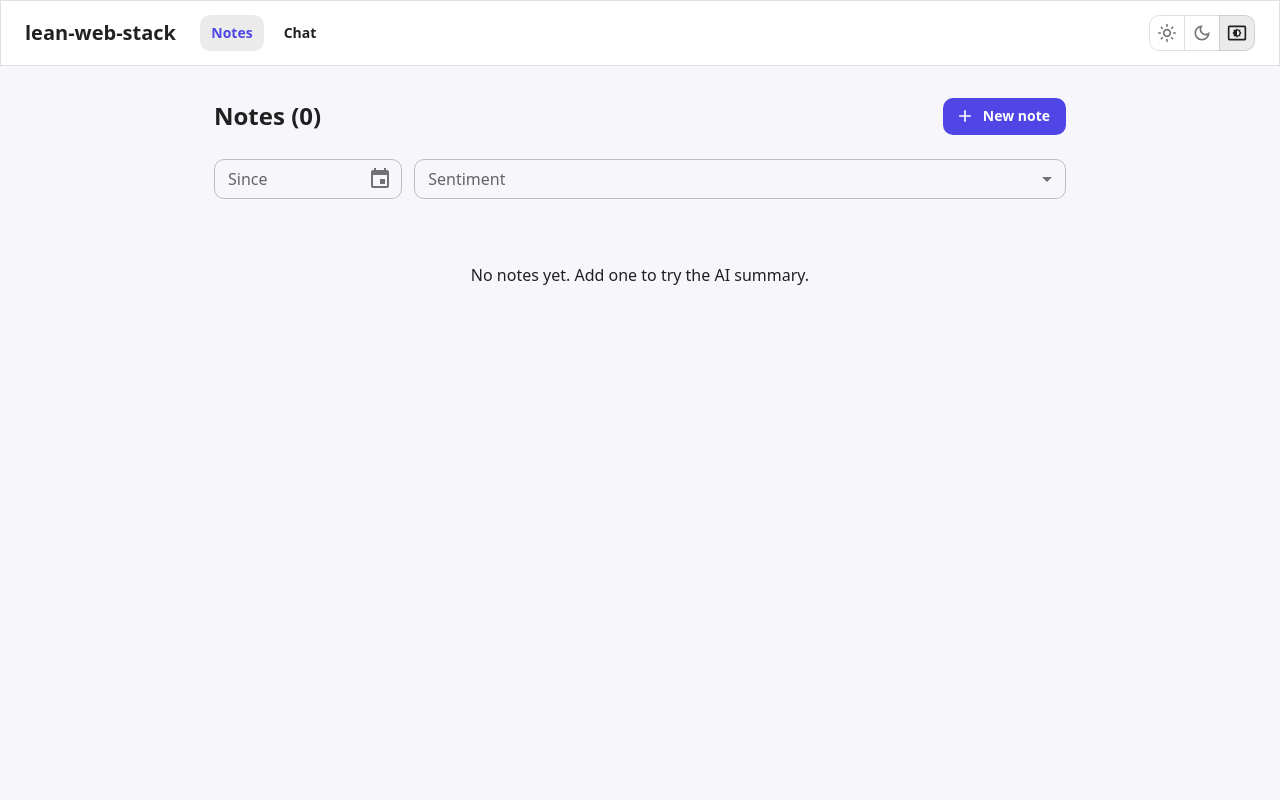
creating a note posts, toasts, closes the dialog and refetches the list
The width and height of the screenshot is (1280, 800).
Click the button "New note" at (1004, 116), box [943,98,1066,134]
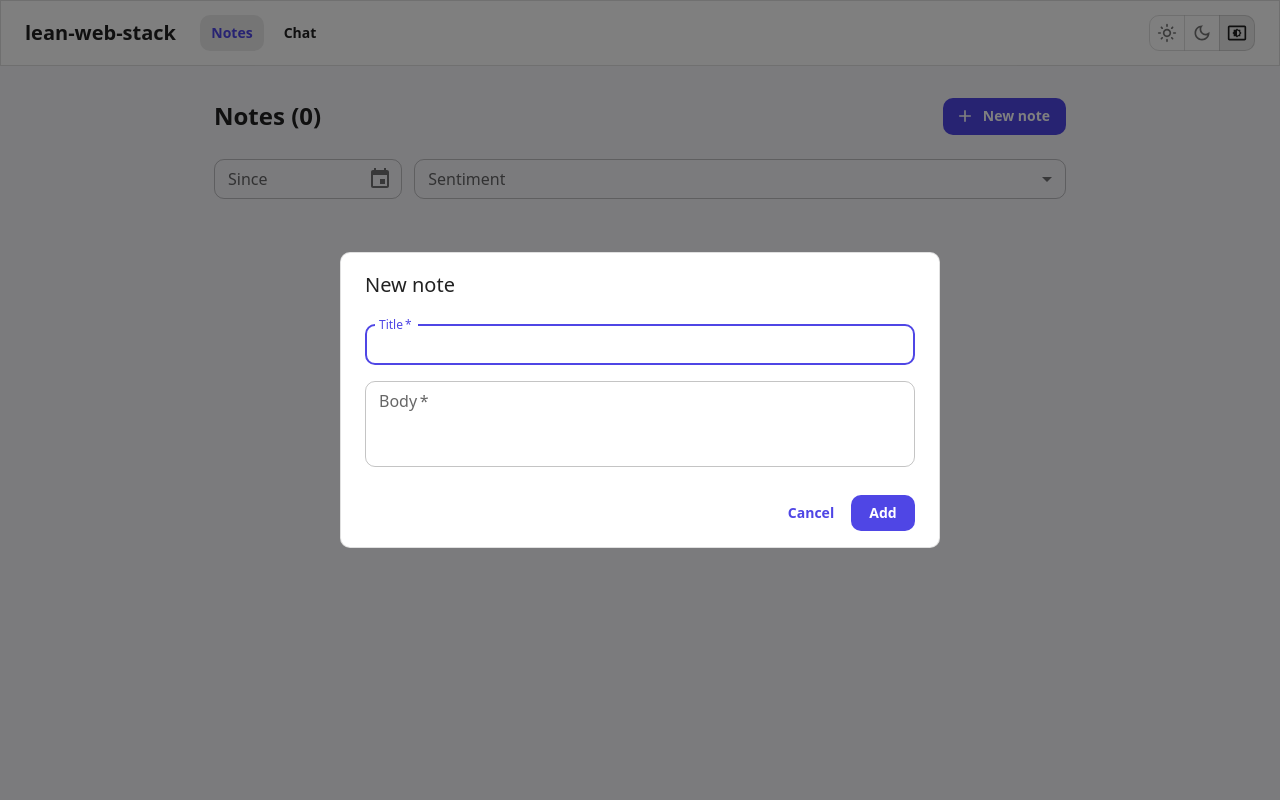
Type "Sprint" into the field labelled "Title *" at (640, 345), box [365,325,915,365]
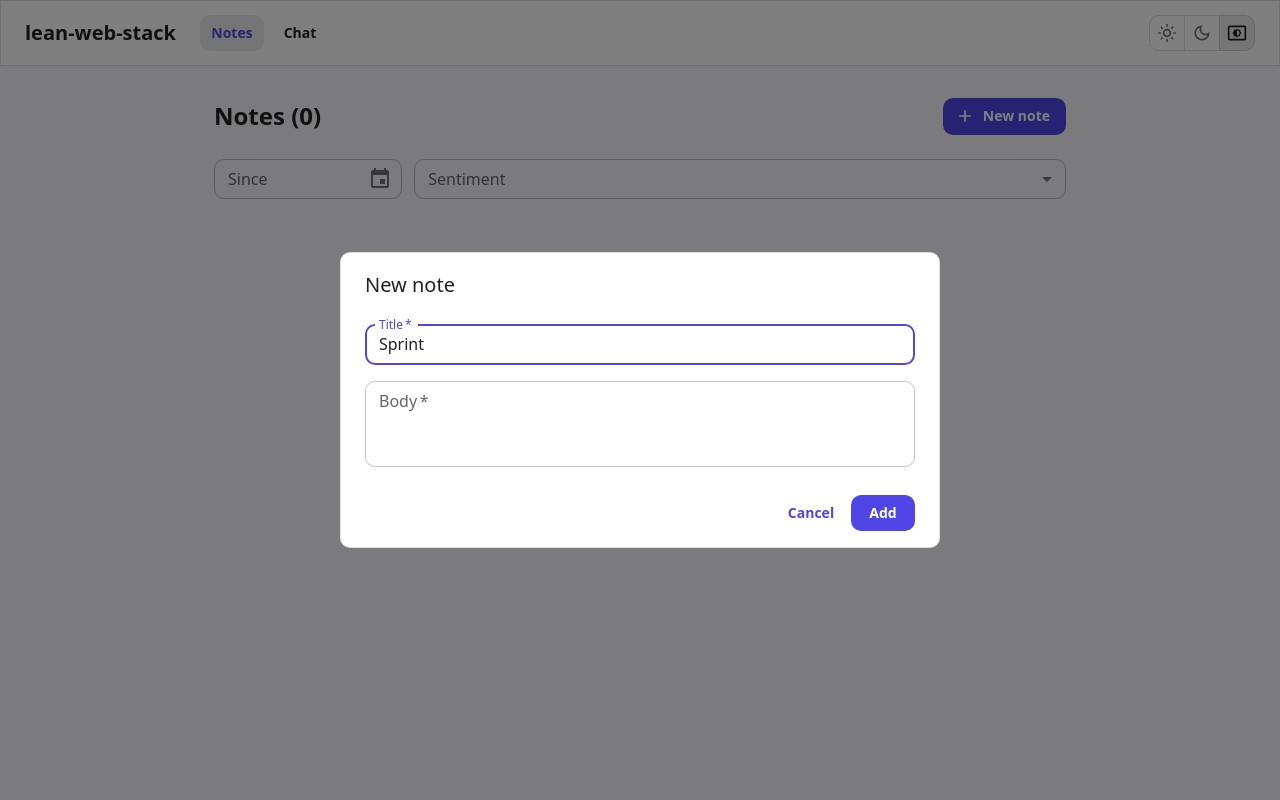
Type "Great review." into the text box labelled "Body *" at (640, 424), box [379,389,901,458]
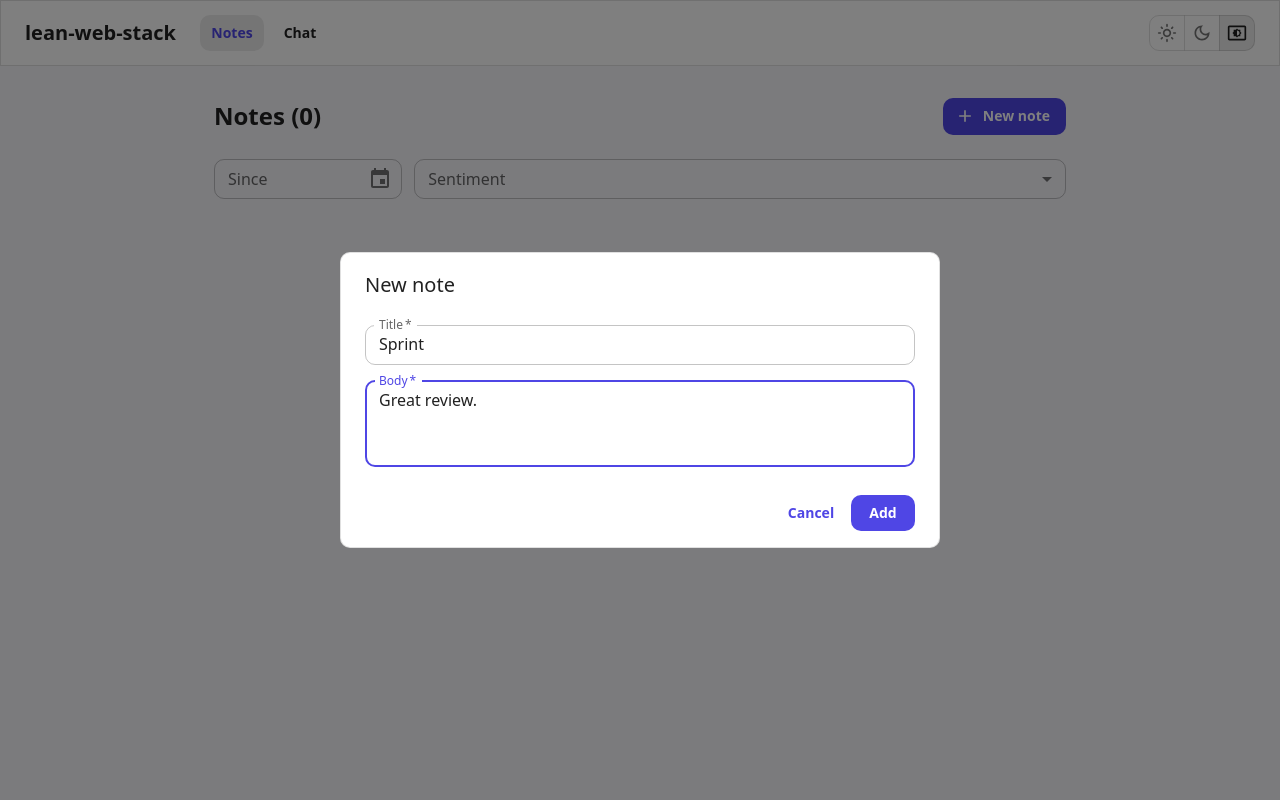
Click the button "Add" at (883, 513), box [851,495,915,531]
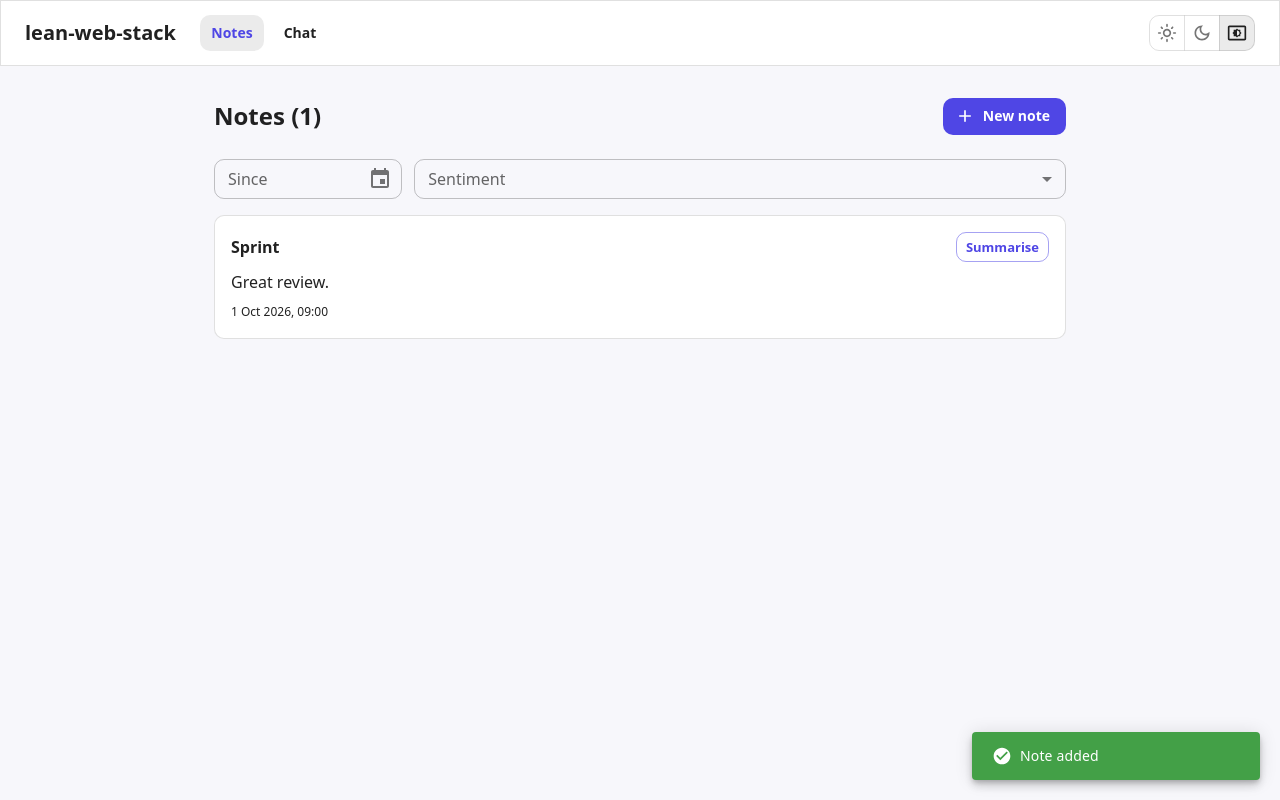
Result: the text "Note added" is shown at [992,746,1099,766]
Result: the dialog is gone
Result: the heading "Notes (1)" is shown at [214,100,321,132]
